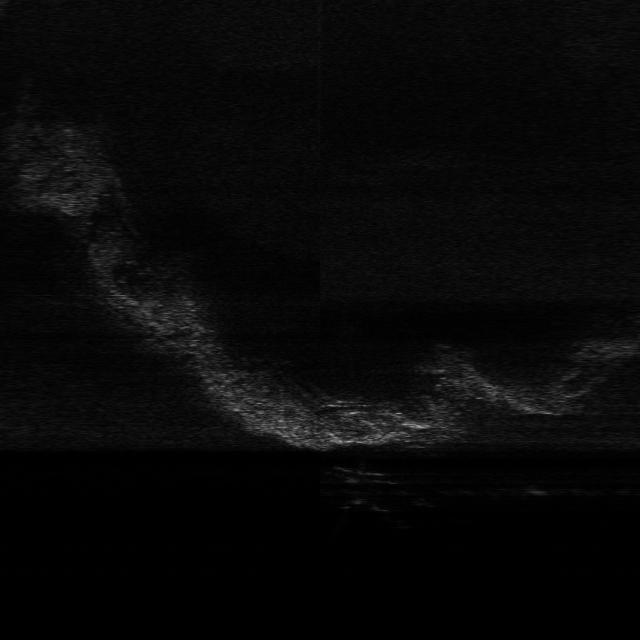plane: (324, 464, 404, 488)
